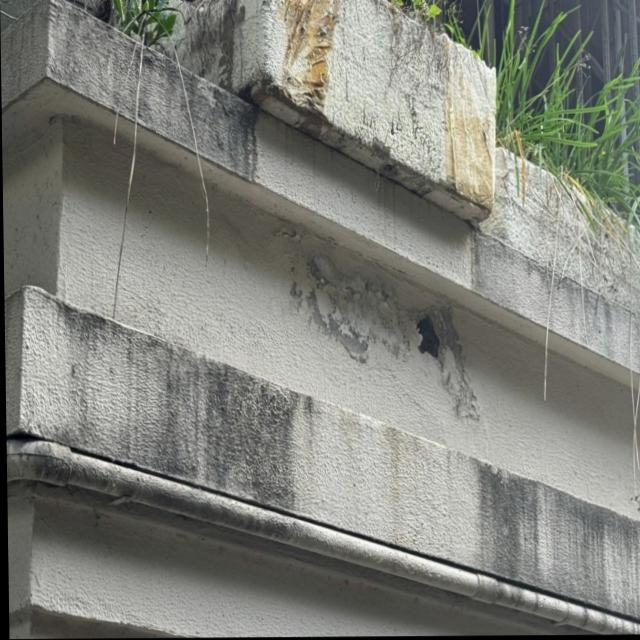mildew: (23, 292, 314, 543), (49, 3, 261, 189), (466, 465, 640, 631), (469, 225, 635, 369)
spalling: (271, 241, 487, 428)
